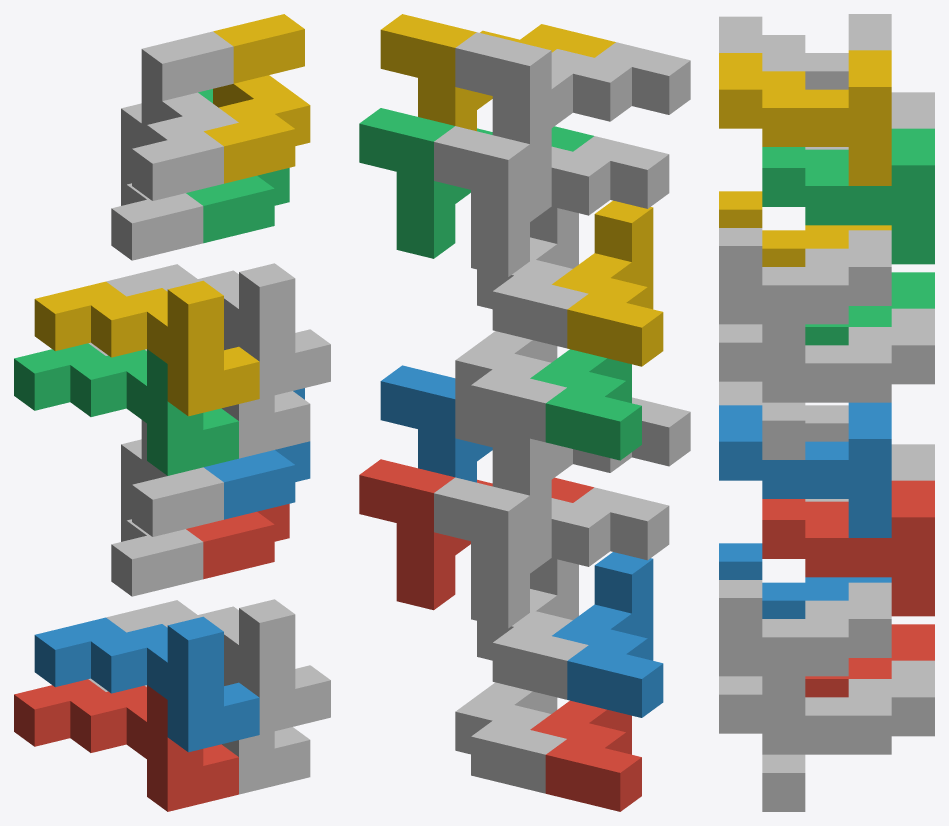
File: tiling.obj
3 views of the same model, side by side, from view 1: azimuth 30°, elevation 25°; view 2: azimuth 150°, elevation 25°; view 3: azimuth 270°, elevation 25° (orthographic). The views are drawn at different scales.
Visible parts, largest first — view 1: copy_1_domain_4, copy_1_domain_2, copy_1_domain_1, copy_1_domain_3, copy_2_domain_4, copy_2_domain_8, copy_1_domain_6, copy_1_domain_8, copy_2_domain_1, copy_2_domain_3, copy_2_domain_2, copy_2_domain_6 (+4 smaller); view 2: copy_2_domain_3, copy_2_domain_1, copy_2_domain_4, copy_1_domain_4, copy_1_domain_2, copy_2_domain_5, copy_2_domain_7, copy_2_domain_2, copy_2_domain_8, copy_1_domain_8, copy_1_domain_6, copy_1_domain_3 (+4 smaller); view 3: copy_1_domain_8, copy_1_domain_6, copy_1_domain_5, copy_1_domain_7, copy_2_domain_8, copy_2_domain_5, copy_2_domain_7, copy_2_domain_6, copy_2_domain_4, copy_1_domain_2, copy_1_domain_4, copy_1_domain_1 (+4 smaller).
Part boxes in pixels (x1,y1,x2,y2): copy_1_domain_4: (34, 280, 259, 416); copy_1_domain_2: (34, 616, 259, 752); copy_1_domain_1: (14, 679, 238, 811); copy_1_domain_3: (14, 343, 238, 475); copy_2_domain_4: (132, 31, 238, 200); copy_2_domain_8: (204, 14, 310, 183); copy_1_domain_6: (106, 599, 330, 734); copy_1_domain_8: (106, 263, 330, 398); copy_2_domain_1: (111, 439, 203, 596); copy_2_domain_3: (111, 103, 203, 260); copy_2_domain_2: (132, 420, 223, 536); copy_2_domain_6: (204, 388, 310, 519); copy_2_domain_3: (434, 126, 669, 276); copy_2_domain_1: (434, 477, 669, 628); copy_2_domain_4: (455, 32, 690, 182); copy_1_domain_4: (552, 200, 663, 366); copy_1_domain_2: (552, 552, 663, 717); copy_2_domain_5: (359, 459, 593, 610); copy_2_domain_7: (359, 108, 593, 258); copy_2_domain_2: (455, 397, 690, 534); copy_2_domain_8: (380, 14, 615, 131); copy_1_domain_8: (477, 206, 588, 348); copy_1_domain_6: (477, 558, 588, 699); copy_1_domain_3: (530, 349, 641, 460); copy_1_domain_8: (719, 228, 891, 381); copy_1_domain_6: (719, 580, 891, 733); copy_1_domain_5: (762, 660, 934, 811); copy_1_domain_7: (762, 308, 934, 459); copy_2_domain_8: (719, 50, 891, 185); copy_2_domain_5: (762, 480, 934, 616); copy_2_domain_7: (762, 128, 934, 264); copy_2_domain_6: (719, 402, 891, 537); copy_2_domain_4: (719, 14, 891, 89); copy_1_domain_2: (719, 543, 891, 618); copy_1_domain_4: (719, 191, 891, 266); copy_1_domain_1: (805, 624, 934, 697).
Size of the model in its own units: 7 by 19 by 5.
